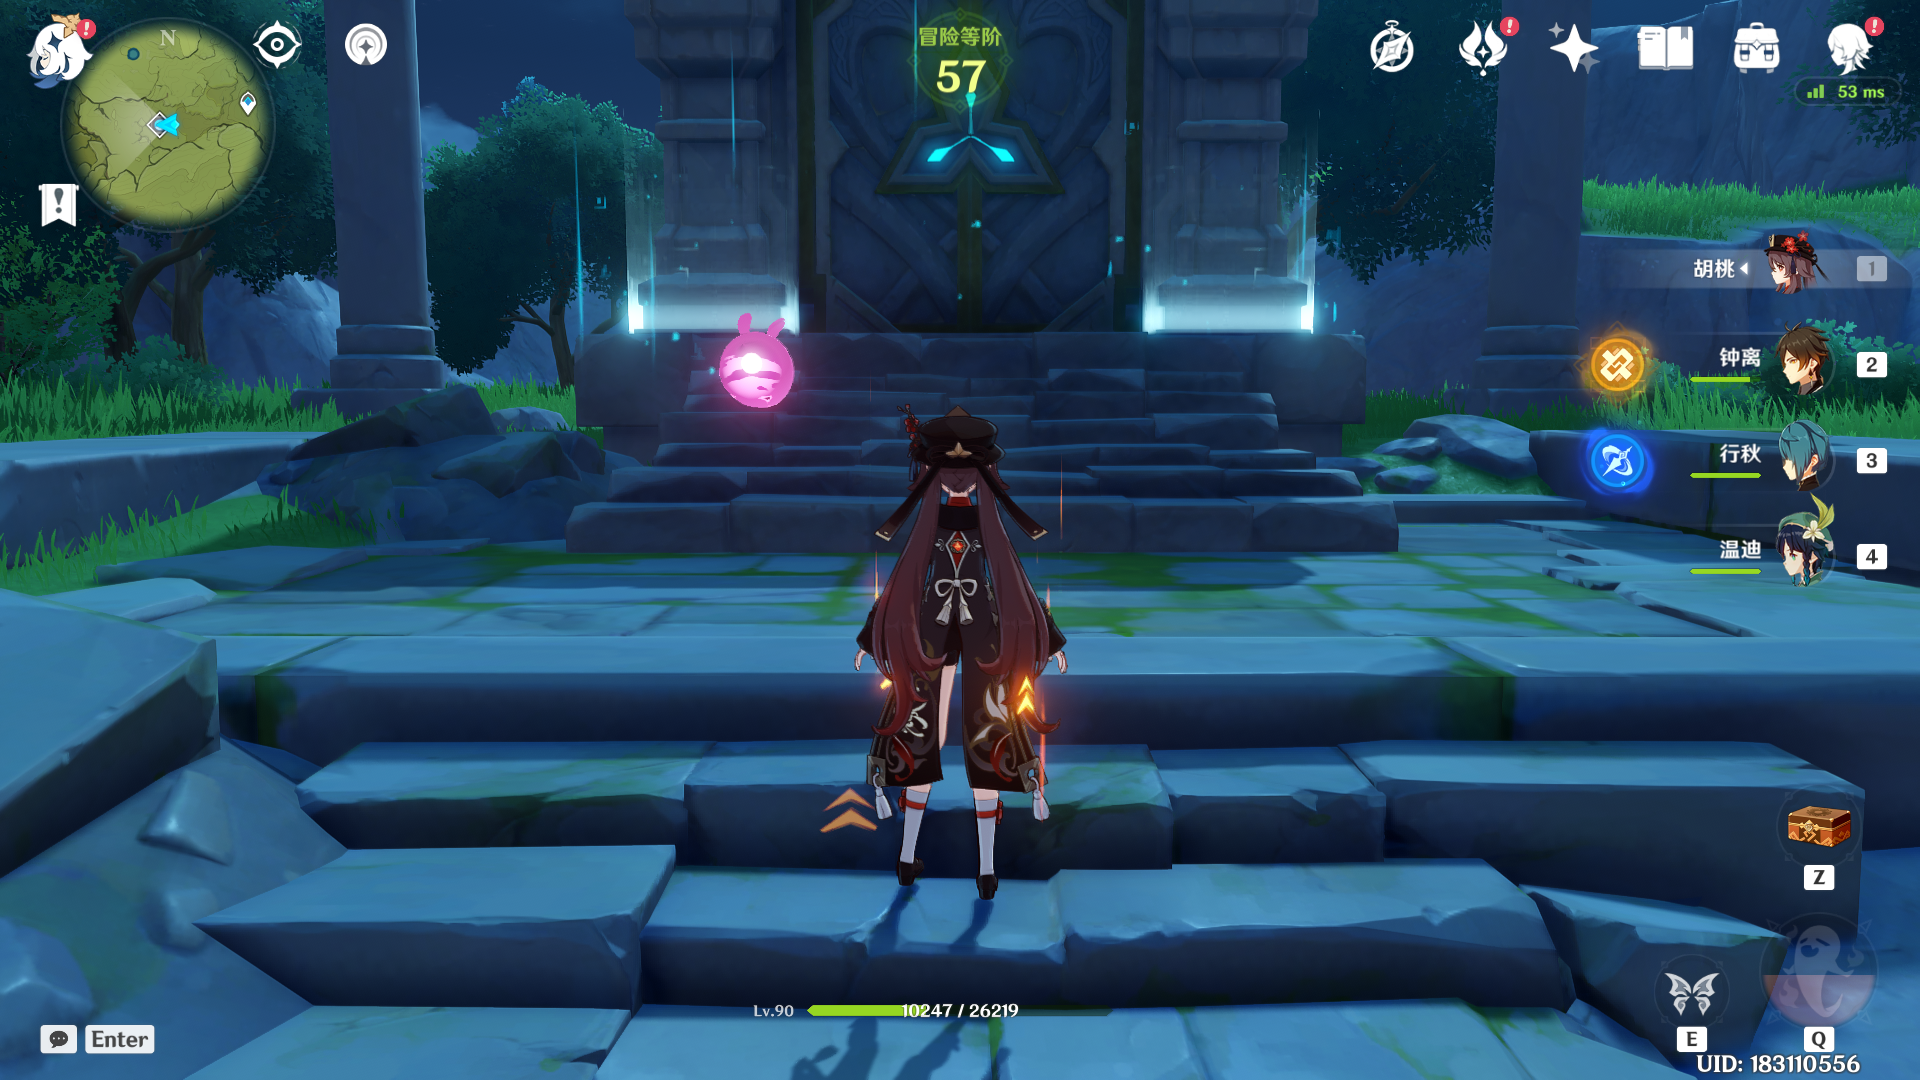character: (775, 375, 1100, 924)
